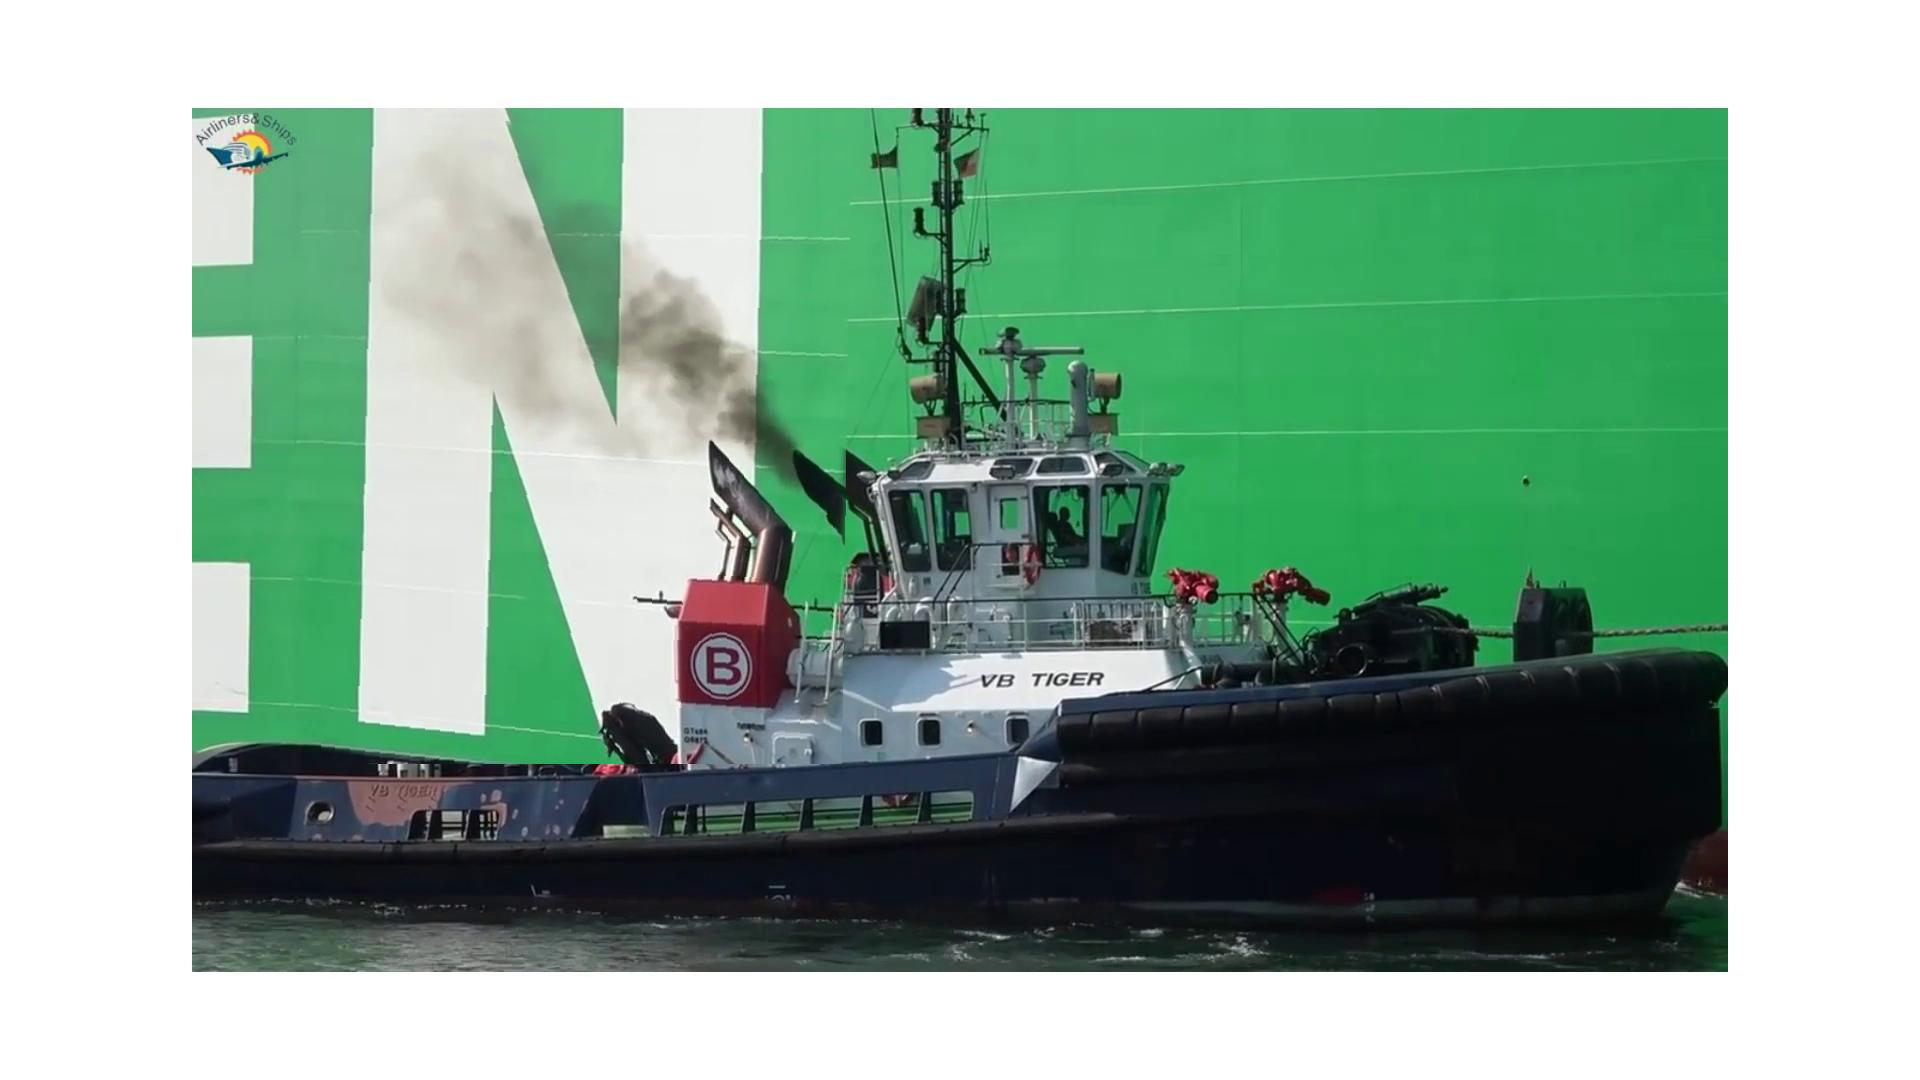OCR: (320, 109, 851, 764)
